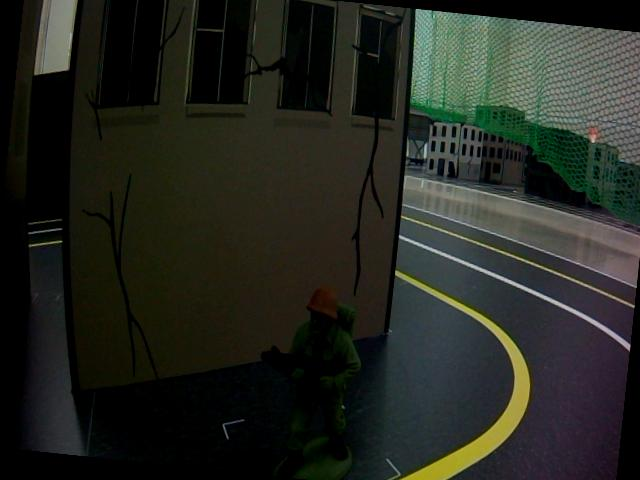Enemy: (242, 259, 374, 480)
